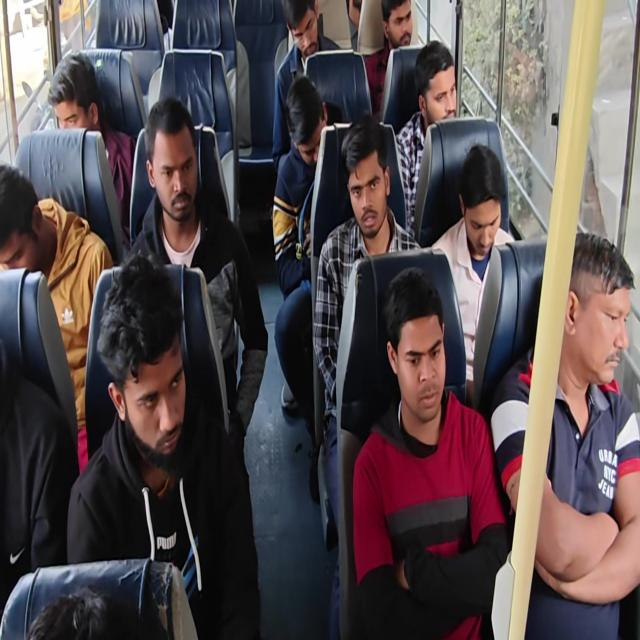person: (90, 270, 206, 476), (560, 231, 640, 399), (378, 276, 462, 427), (144, 92, 208, 231), (450, 136, 515, 267), (341, 125, 400, 234), (23, 591, 148, 640), (43, 45, 103, 143), (278, 70, 333, 164), (0, 146, 36, 280), (413, 42, 461, 123), (272, 0, 330, 54), (375, 0, 424, 60)
